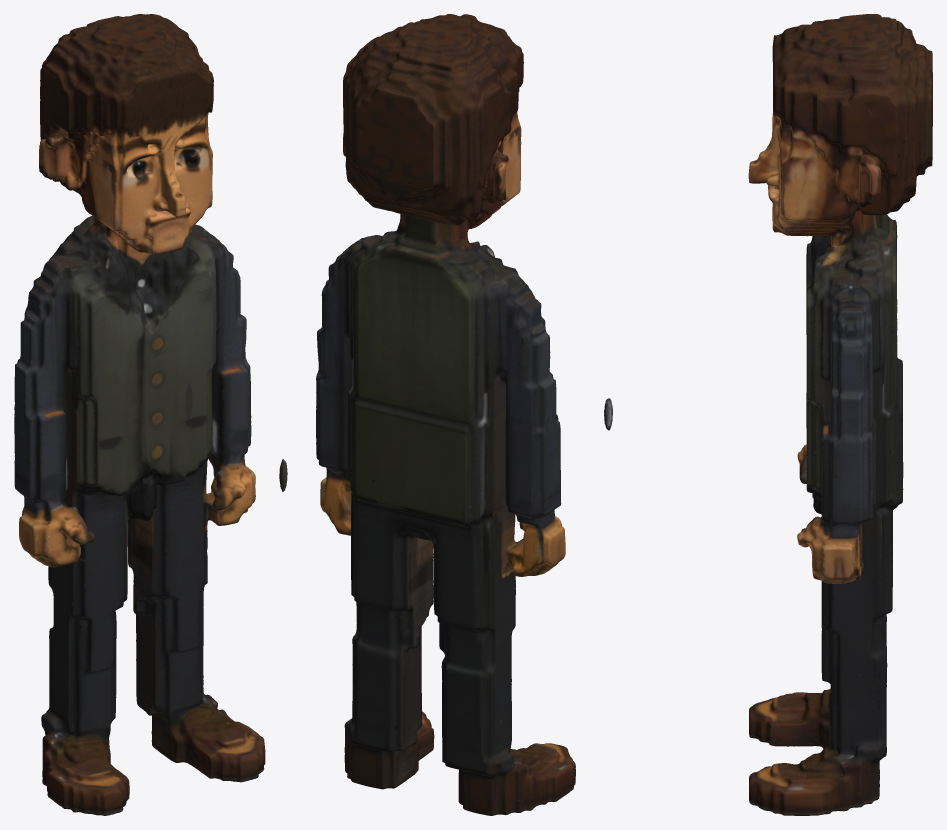
File: character.glb
The picture shows the model from 3 angles, left to right: view 1: azimuth 30°, elevation 25°; view 2: azimuth 150°, elevation 25°; view 3: azimuth 270°, elevation 25°; orthographic projection. The views are drawn at different scales.
Bounding box in the file's own units: 0.6394 × 2 × 0.8101.
1 material, 1 textured.
